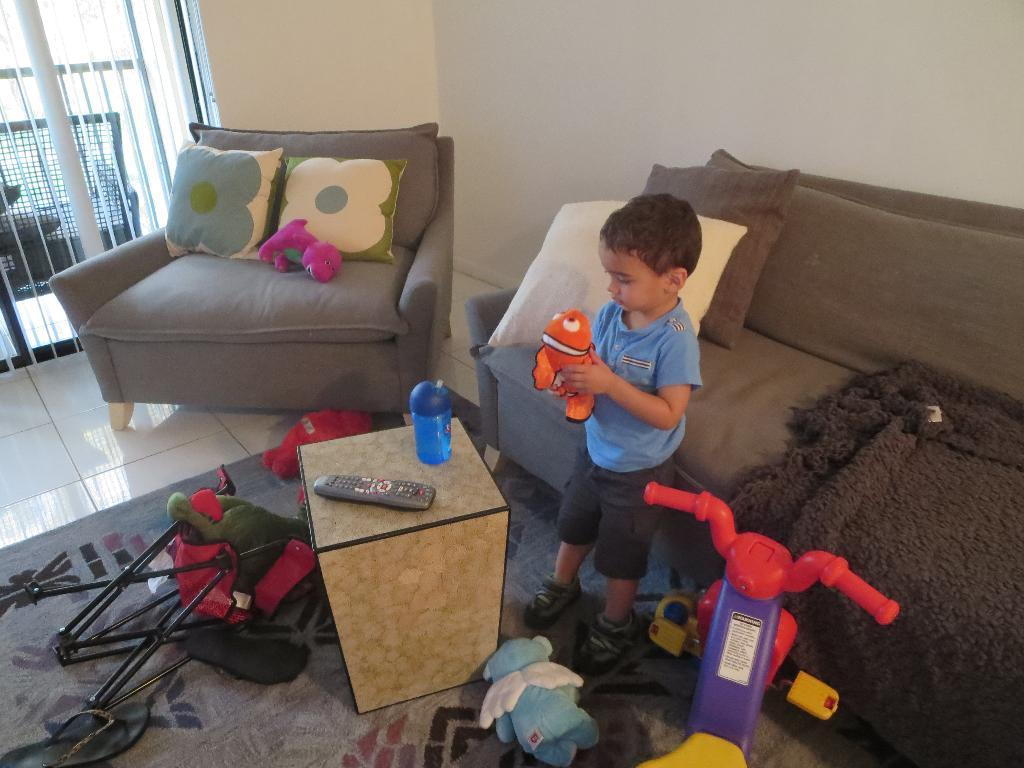Chair: (68, 122, 464, 451), (0, 109, 148, 357)
